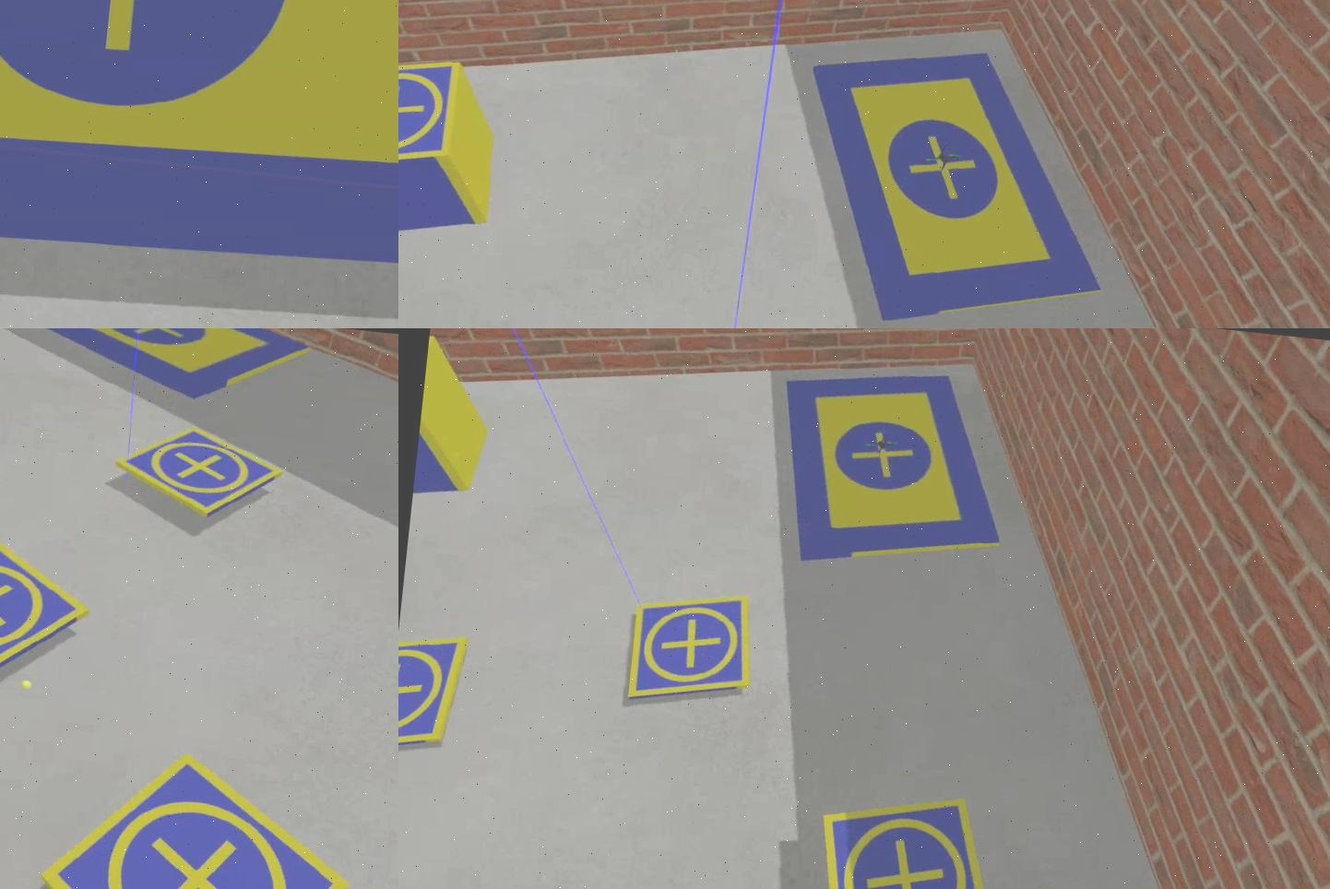large_base: (1, 1, 398, 308), (784, 34, 1126, 328), (766, 360, 1020, 583), (1, 328, 318, 411)
small_base: (26, 739, 361, 889), (803, 788, 1009, 889), (111, 417, 289, 528), (620, 583, 759, 712), (1, 525, 97, 705), (398, 48, 462, 187), (398, 634, 470, 751)
